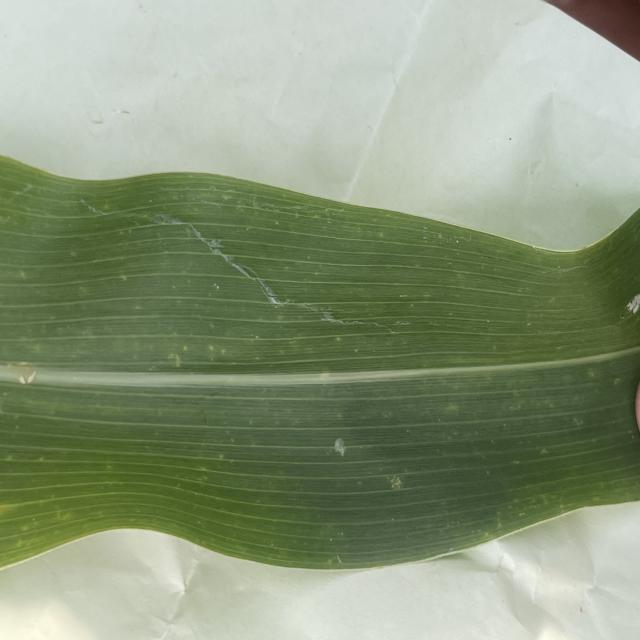millet_healthy: (3, 152, 640, 576)
